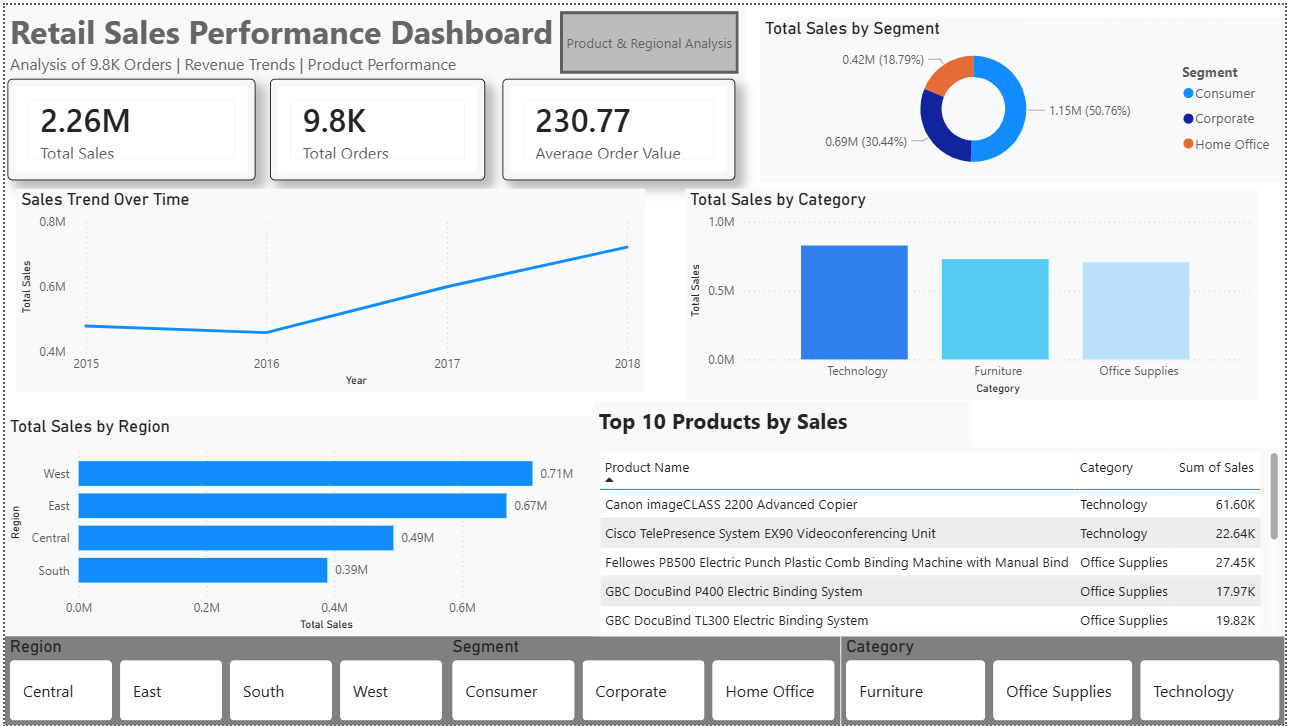

The page's visual inventory and layout, read from the dashboard file:
{"tool":"powerbi","page":{"name":"Executive Overview","canvas":[1280,720],"ordinal":0},"visuals":[{"type":"textbox","box":[0,0,739.7,74.1],"z":0},{"type":"cardVisual","fields":{"Data":["superstore_sales.Total Sales"]},"box":[2.5,74.1,248.3,101.7],"z":1000},{"type":"cardVisual","fields":{"Data":["superstore_sales.Total Orders"]},"box":[264.5,74.1,215.5,101.7],"z":2000},{"type":"cardVisual","fields":{"Data":["superstore_sales.Average Order Value"]},"box":[497.3,74.1,232.8,101.7],"z":3000},{"type":"lineChart","title":"Sales Trend Over Time","fields":{"Category":["superstore_sales.Order Date.Variation.Date Hierarchy.Year","superstore_sales.Order Date.Variation.Date Hierarchy.Quarter","superstore_sales.Order Date.Variation.Date Hierarchy.Month","superstore_sales.Order Date.Variation.Date Hierarchy.Day"],"Y":["superstore_sales.Total Sales"]},"box":[11.3,183.9,629,203.2],"z":4000},{"type":"barChart","fields":{"Category":["superstore_sales.Region"],"Y":["superstore_sales.Total Sales"]},"box":[0,411.3,588.7,219.4],"z":5000},{"type":"columnChart","fields":{"Category":["superstore_sales.Category"],"Y":["superstore_sales.Total Sales"]},"box":[680,184,572,210.7],"z":6000},{"type":"donutChart","fields":{"Category":["superstore_sales.Segment"],"Y":["superstore_sales.Total Sales"]},"box":[755.2,12.1,524.1,163.8],"z":7000},{"type":"advancedSlicerVisual","fields":{"Values":["superstore_sales.Region"]},"box":[0,631,443.1,89.7],"z":8000},{"type":"advancedSlicerVisual","fields":{"Values":["superstore_sales.Segment"]},"box":[443.1,631,393.1,89.7],"z":9000},{"type":"advancedSlicerVisual","fields":{"Values":["superstore_sales.Category"]},"box":[836.2,631,443.1,89.7],"z":10000},{"type":"textbox","box":[588.7,395.8,377.5,46.5],"z":11000},{"type":"tableEx","fields":{"Values":["superstore_sales.Product Name","superstore_sales.Category","Sum(superstore_sales.Sales)"]},"box":[588.7,442.3,690.1,188.7],"z":12000},{"type":"actionButton","box":[555,6.2,178.8,62.5],"z":12001}]}

Visuals, with their boxes in screenshot pixels (x1, y1, x2, y2), scaled from the page's 1280x720 canvas onto the 1290x726 screenshot:
textbox: {"x1": 0, "y1": 0, "x2": 745, "y2": 75}
cardVisual - superstore_sales.Total Sales: {"x1": 3, "y1": 75, "x2": 253, "y2": 177}
cardVisual - superstore_sales.Total Orders: {"x1": 267, "y1": 75, "x2": 484, "y2": 177}
cardVisual - superstore_sales.Average Order Value: {"x1": 501, "y1": 75, "x2": 736, "y2": 177}
"Sales Trend Over Time" lineChart: {"x1": 11, "y1": 185, "x2": 645, "y2": 390}
barChart - superstore_sales.Region x superstore_sales.Total Sales: {"x1": 0, "y1": 415, "x2": 593, "y2": 636}
columnChart - superstore_sales.Category x superstore_sales.Total Sales: {"x1": 685, "y1": 186, "x2": 1262, "y2": 398}
donutChart - superstore_sales.Segment x superstore_sales.Total Sales: {"x1": 761, "y1": 12, "x2": 1289, "y2": 177}
advancedSlicerVisual - superstore_sales.Region: {"x1": 0, "y1": 636, "x2": 447, "y2": 725}
advancedSlicerVisual - superstore_sales.Segment: {"x1": 447, "y1": 636, "x2": 843, "y2": 725}
advancedSlicerVisual - superstore_sales.Category: {"x1": 843, "y1": 636, "x2": 1289, "y2": 725}
textbox: {"x1": 593, "y1": 399, "x2": 974, "y2": 446}
tableEx - superstore_sales.Product Name x superstore_sales.Category: {"x1": 593, "y1": 446, "x2": 1289, "y2": 636}
actionButton: {"x1": 559, "y1": 6, "x2": 740, "y2": 69}
